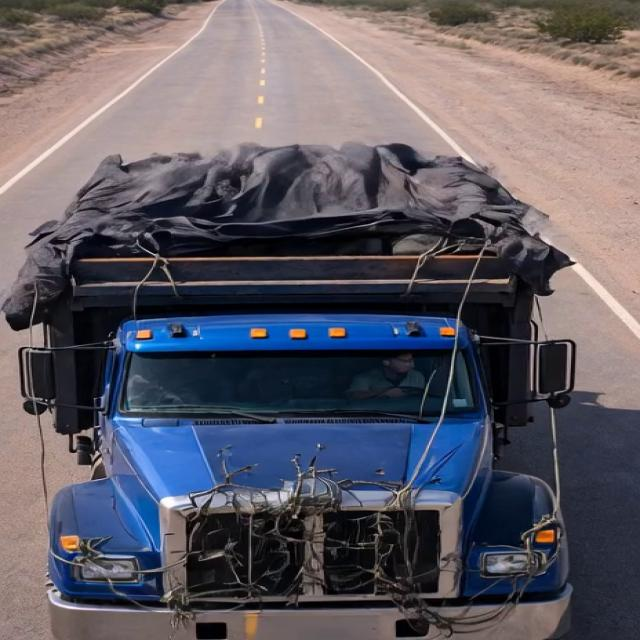Box: (16, 138, 587, 302)
Truck: (9, 114, 626, 626)
